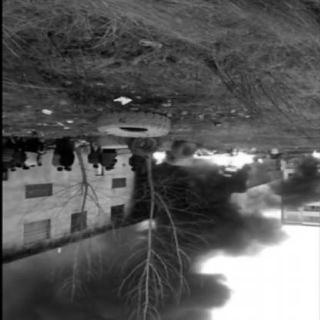Fire: (116, 130, 320, 188)
Smoke: (4, 202, 270, 318)
